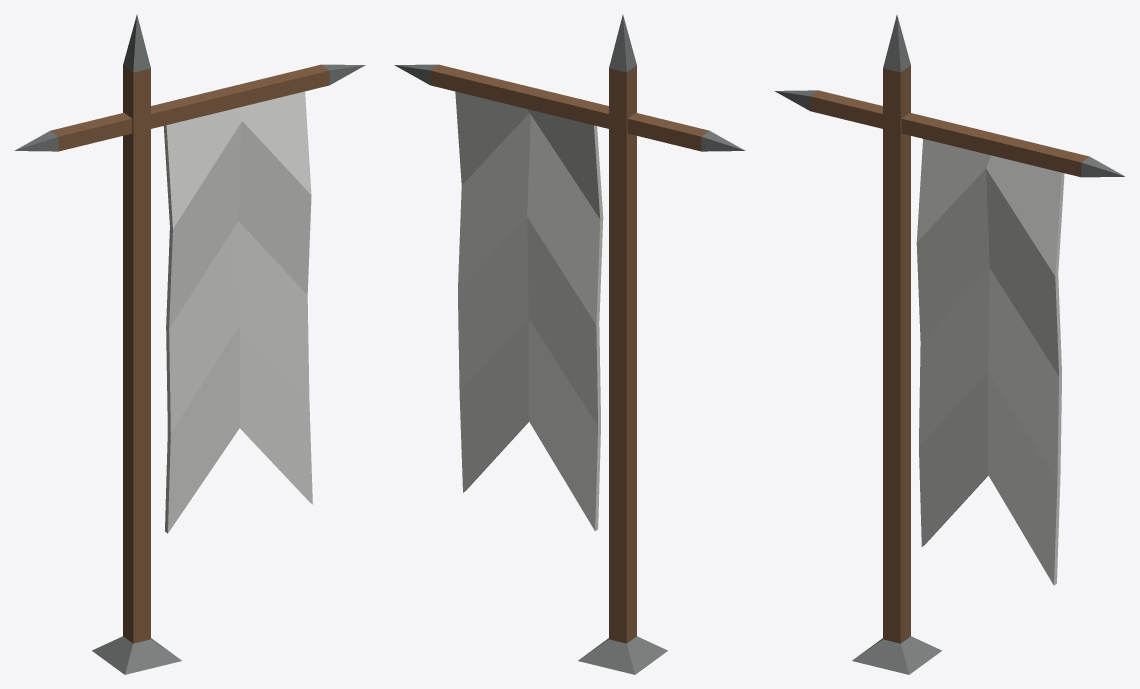
Rendered from Banner_2_White.fbx.
The picture shows the model from 3 angles, left to right: view 1: azimuth 30°, elevation 25°; view 2: azimuth 150°, elevation 25°; view 3: azimuth 330°, elevation 25°; orthographic projection.
Parts seen in each view (by area): view 1: Banner_2_White_Part_3, Banner_2_White_Part_1, Banner_2_White_Part_2; view 2: Banner_2_White_Part_3, Banner_2_White_Part_1, Banner_2_White_Part_2; view 3: Banner_2_White_Part_3, Banner_2_White_Part_1, Banner_2_White_Part_2.
Part boxes in pixels (x1,y1,x2,y2): Banner_2_White_Part_3: [163, 91, 312, 533]; Banner_2_White_Part_1: [50, 64, 329, 643]; Banner_2_White_Part_2: [14, 14, 365, 674]; Banner_2_White_Part_3: [455, 91, 603, 531]; Banner_2_White_Part_1: [430, 64, 709, 643]; Banner_2_White_Part_2: [394, 14, 745, 674]; Banner_2_White_Part_3: [916, 139, 1064, 585]; Banner_2_White_Part_1: [810, 65, 1089, 643]; Banner_2_White_Part_2: [774, 14, 1124, 674].
Size of the model in its own units: 172 by 300 by 28.14.
